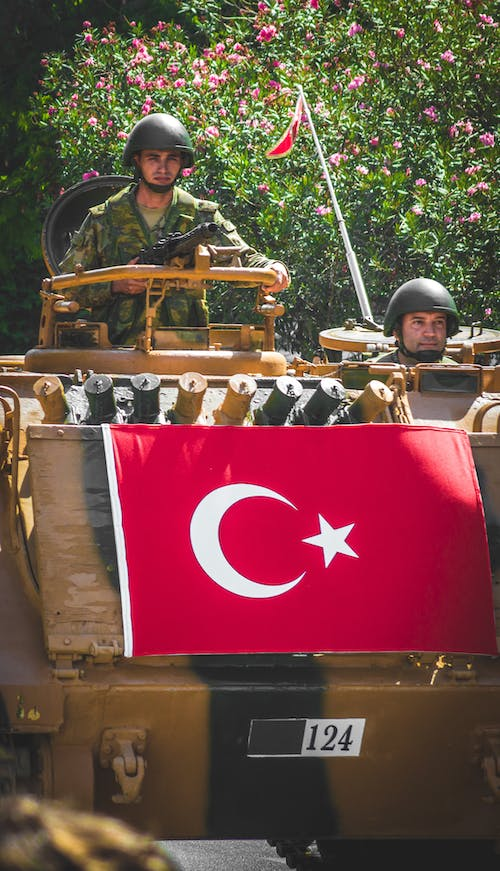gun: (131, 214, 221, 269)
